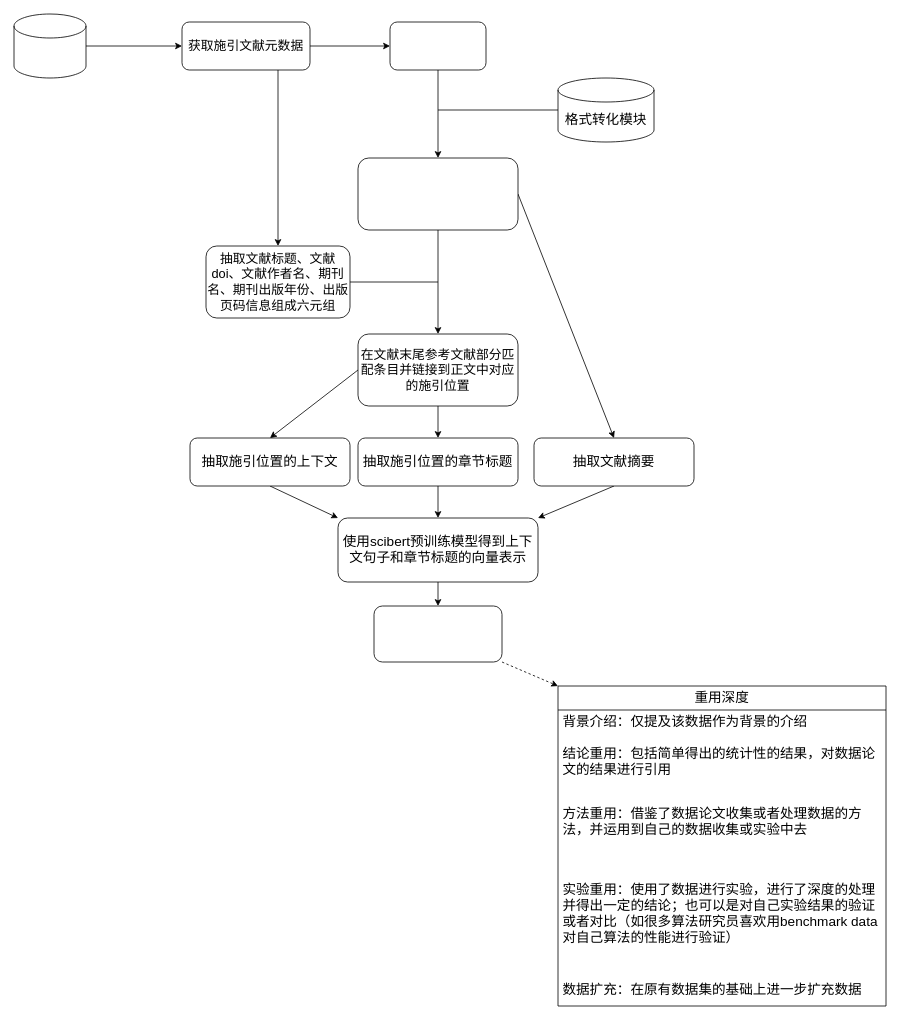
The diagram is 900 pixels wide and 1020 high, and some of its shapes have lost their labels. The shapes that lost their labels are listed below. From the top down, each one's centre as x and y in pixels, then its label:
At point (49, 45): "待分析的 数据论文".
At point (437, 45): "获取全文pdf".
At point (437, 193): "将文献转化为带引用标记的文本文件".
At point (437, 633): "选择聚类算法进行监督聚类".
